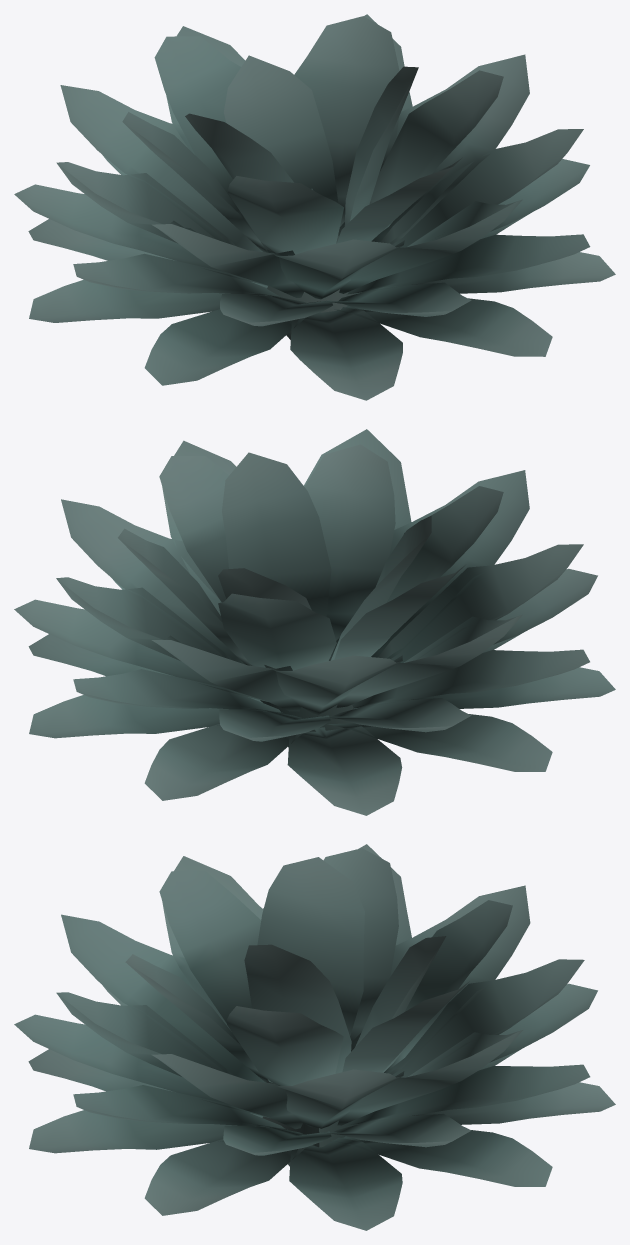
The model's file is plants-cacti-succulents-blue-echeveria_v4.glb.
The picture shows the model from 3 angles, top to bottom: view 1: azimuth 30°, elevation 25°; view 2: azimuth 150°, elevation 25°; view 3: azimuth 270°, elevation 25°; orthographic projection.
Visible parts, largest first — view 1: Blue Echeveria_v4; view 2: Blue Echeveria_v4; view 3: Blue Echeveria_v4.
Boxes of the visible parts, left/top/right/bottom form: Blue Echeveria_v4: left=14, top=14, right=615, bottom=400; Blue Echeveria_v4: left=14, top=429, right=615, bottom=815; Blue Echeveria_v4: left=14, top=844, right=615, bottom=1230.
Size of the model in its own units: 0.1981 by 0.1079 by 0.2.
